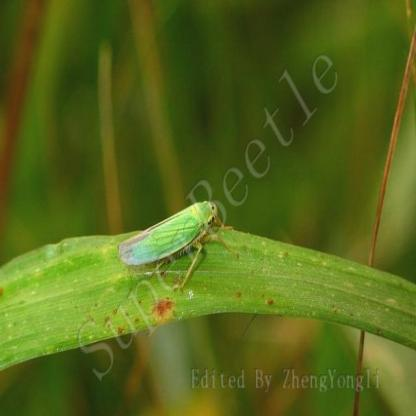Green-Leafhopper: (114, 197, 223, 300)
